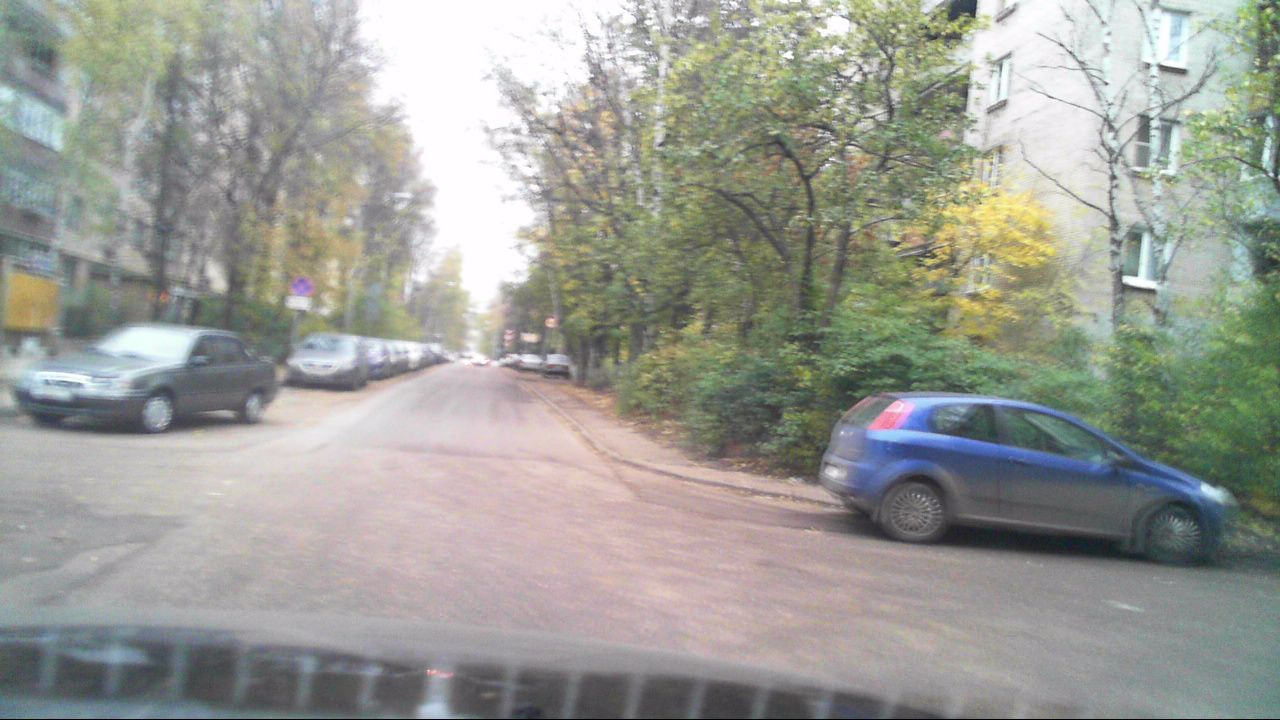No Parking: (288, 275, 309, 295)
